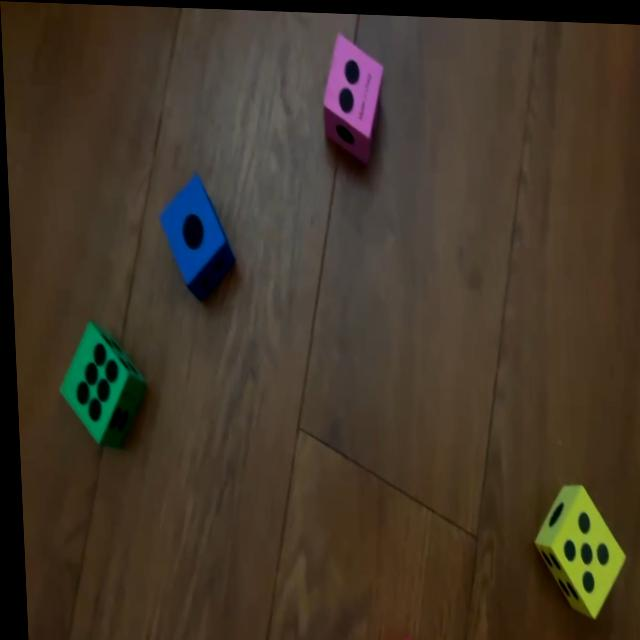cube: (55, 321, 144, 443), (156, 165, 233, 298), (382, 631, 411, 640)
